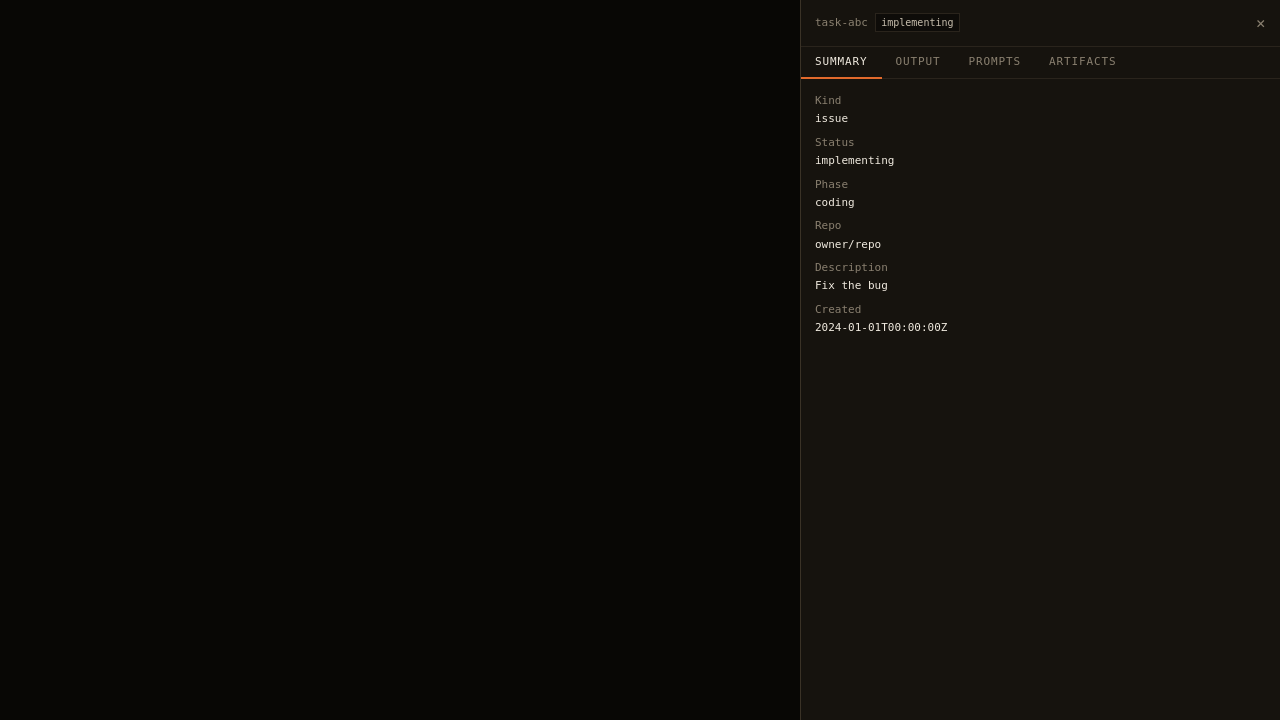
Test: TaskDetailSlideover › renders long multiline prompts in full without truncation
Click the button "prompts". click: (995, 63)
box: x1=954 y1=46 x2=1035 y2=79
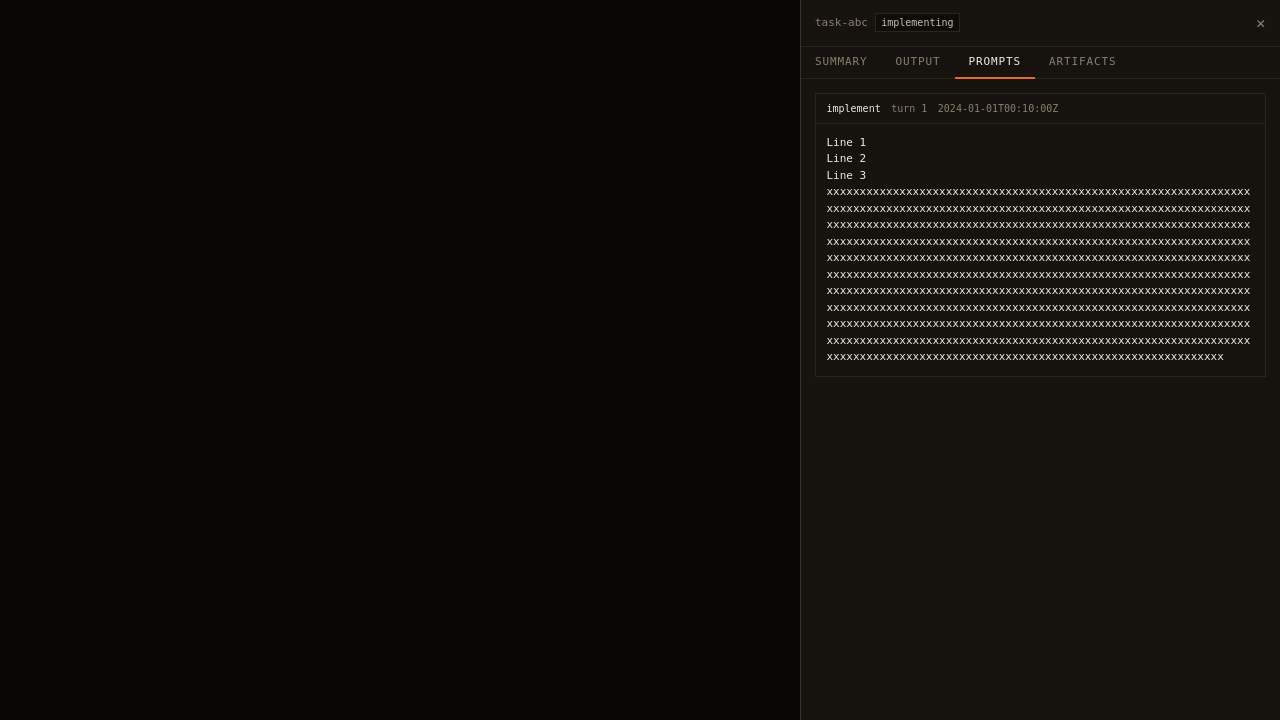
Now the text with test id "prompt-body-0" shows "Line 1", box x1=826 y1=136 x2=1250 y2=363
Now the text with test id "prompt-body-0" shows "Line 2", box x1=826 y1=136 x2=1250 y2=363
Now the text with test id "prompt-body-0" shows "Line 3", box x1=826 y1=136 x2=1250 y2=363
